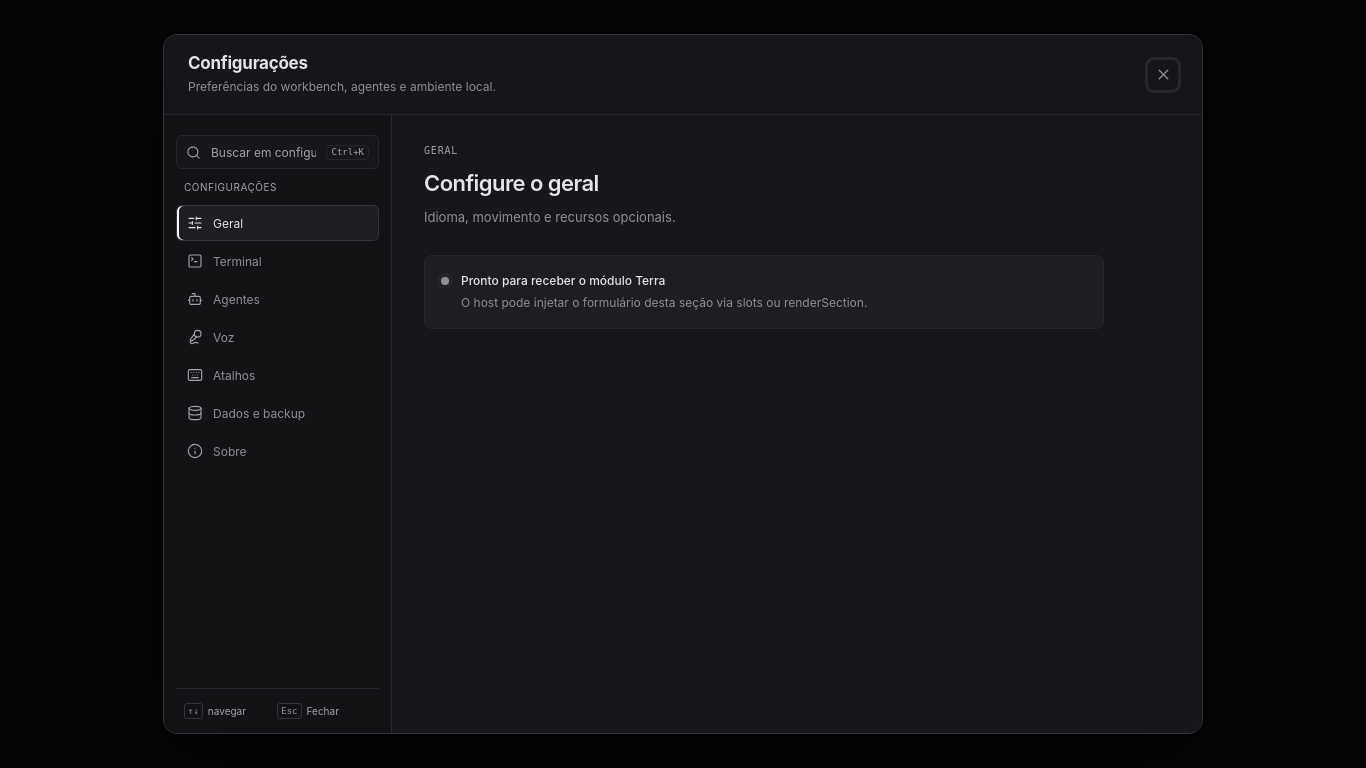
SettingsDialog › Given the settings search, when typing, then categories are filtered
Type "voz" into the search field named "Buscar configurações" at [264, 152], box x1=209 y1=144 x2=318 y2=161
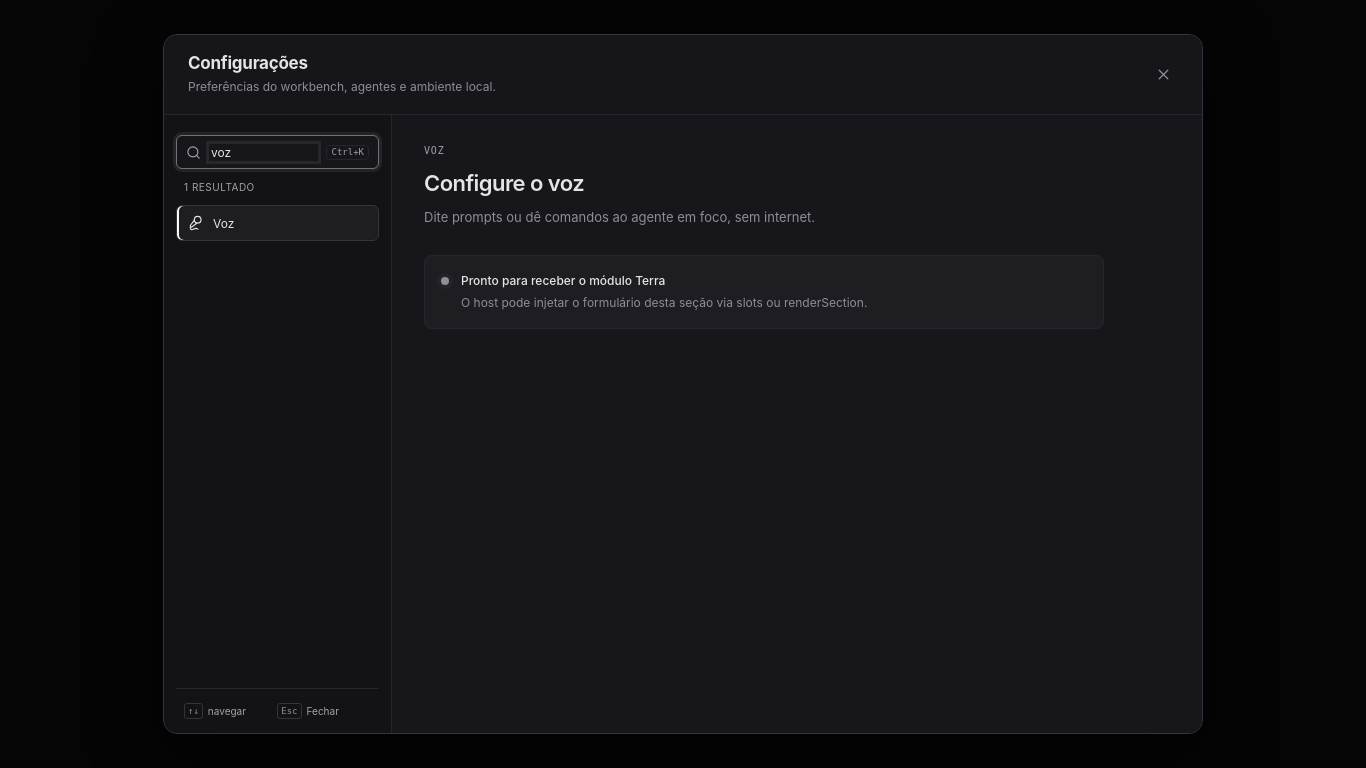
expect the tab "Voz" is shown: met, box x1=176 y1=205 x2=379 y2=241
expect the text "1 resultado" is shown: met, box x1=184 y1=181 x2=255 y2=193
